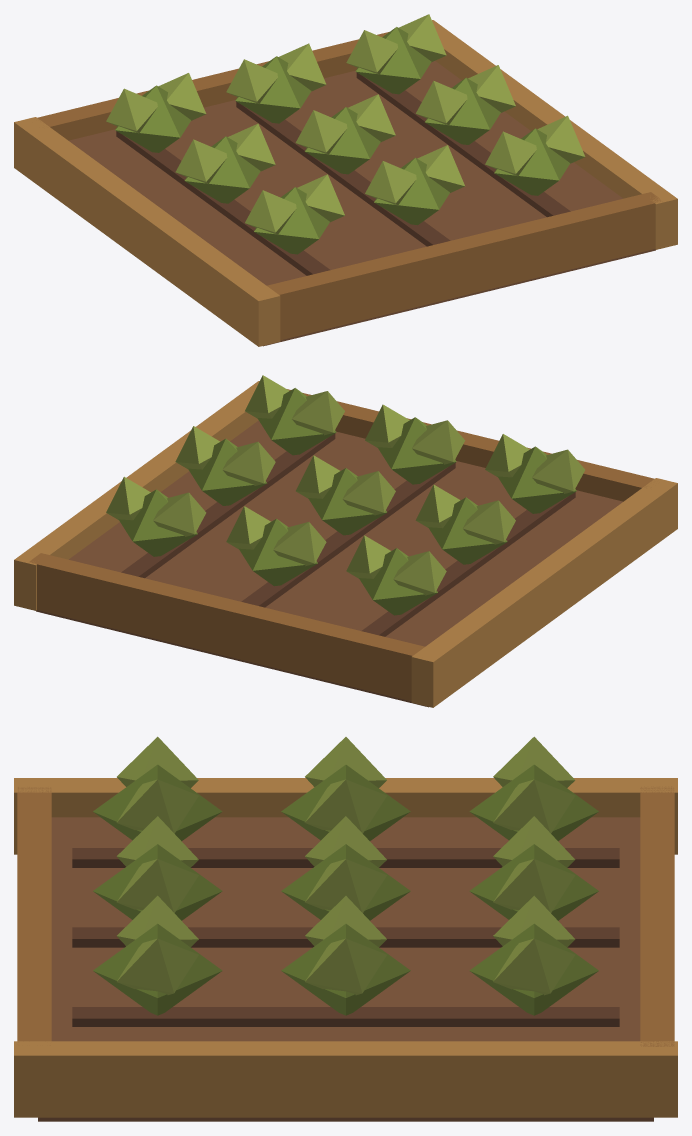
The model's file is farm-ready.gltf.
3 renders of one model, top to bottom at view 1: azimuth 30°, elevation 25°; view 2: azimuth 150°, elevation 25°; view 3: azimuth 270°, elevation 25°, orthographic. The views are drawn at different scales.
Parts seen in each view (by area): view 1: farm-ready; view 2: farm-ready; view 3: farm-ready.
Part boxes in pixels (x1=…): farm-ready: x1=14, y1=14, x2=677, y2=346; farm-ready: x1=14, y1=375, x2=677, y2=707; farm-ready: x1=14, y1=736, x2=677, y2=1121.
Bounding box in the file's own units: 1.92 × 0.4961 × 1.94.
